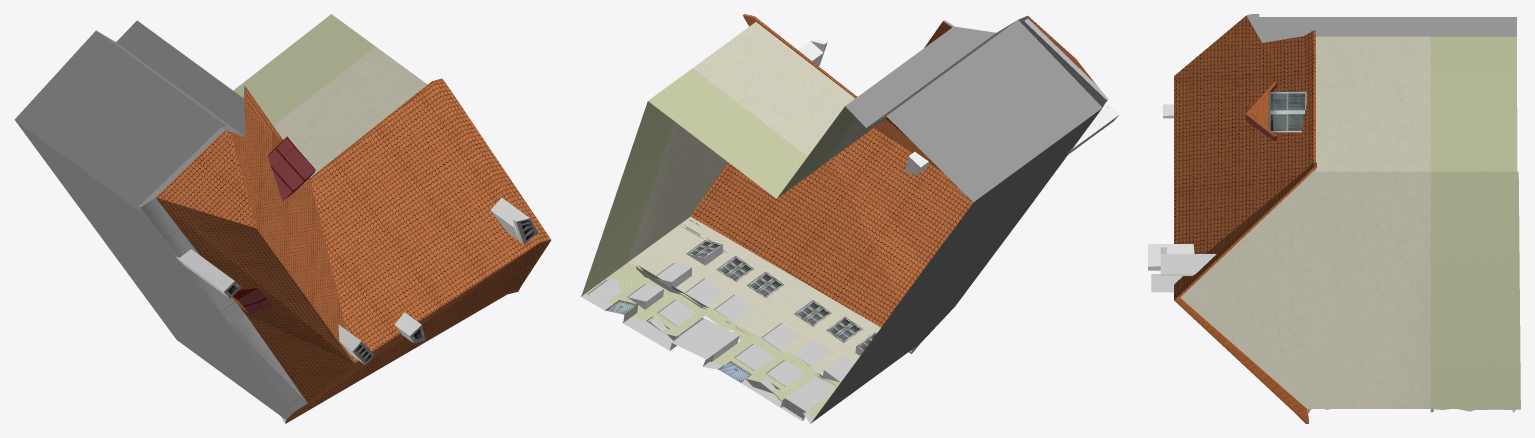
File: Pyhavaimu_11-origo.obj
3 views of the same model, side by side, from view 1: azimuth 30°, elevation 25°; view 2: azimuth 150°, elevation 25°; view 3: azimuth 270°, elevation 25° (orthographic). The views are drawn at different scales.
Visible parts, largest first — view 1: Pyhavaimu_11; view 2: Pyhavaimu_11; view 3: Pyhavaimu_11.
Boxes of the visible parts, x1,y1,x2,y2 form: Pyhavaimu_11: (14,14,551,423); Pyhavaimu_11: (580,14,1119,423); Pyhavaimu_11: (1148,14,1520,423).
Size of the model in its own units: 25.19 by 20.5 by 20.48.
